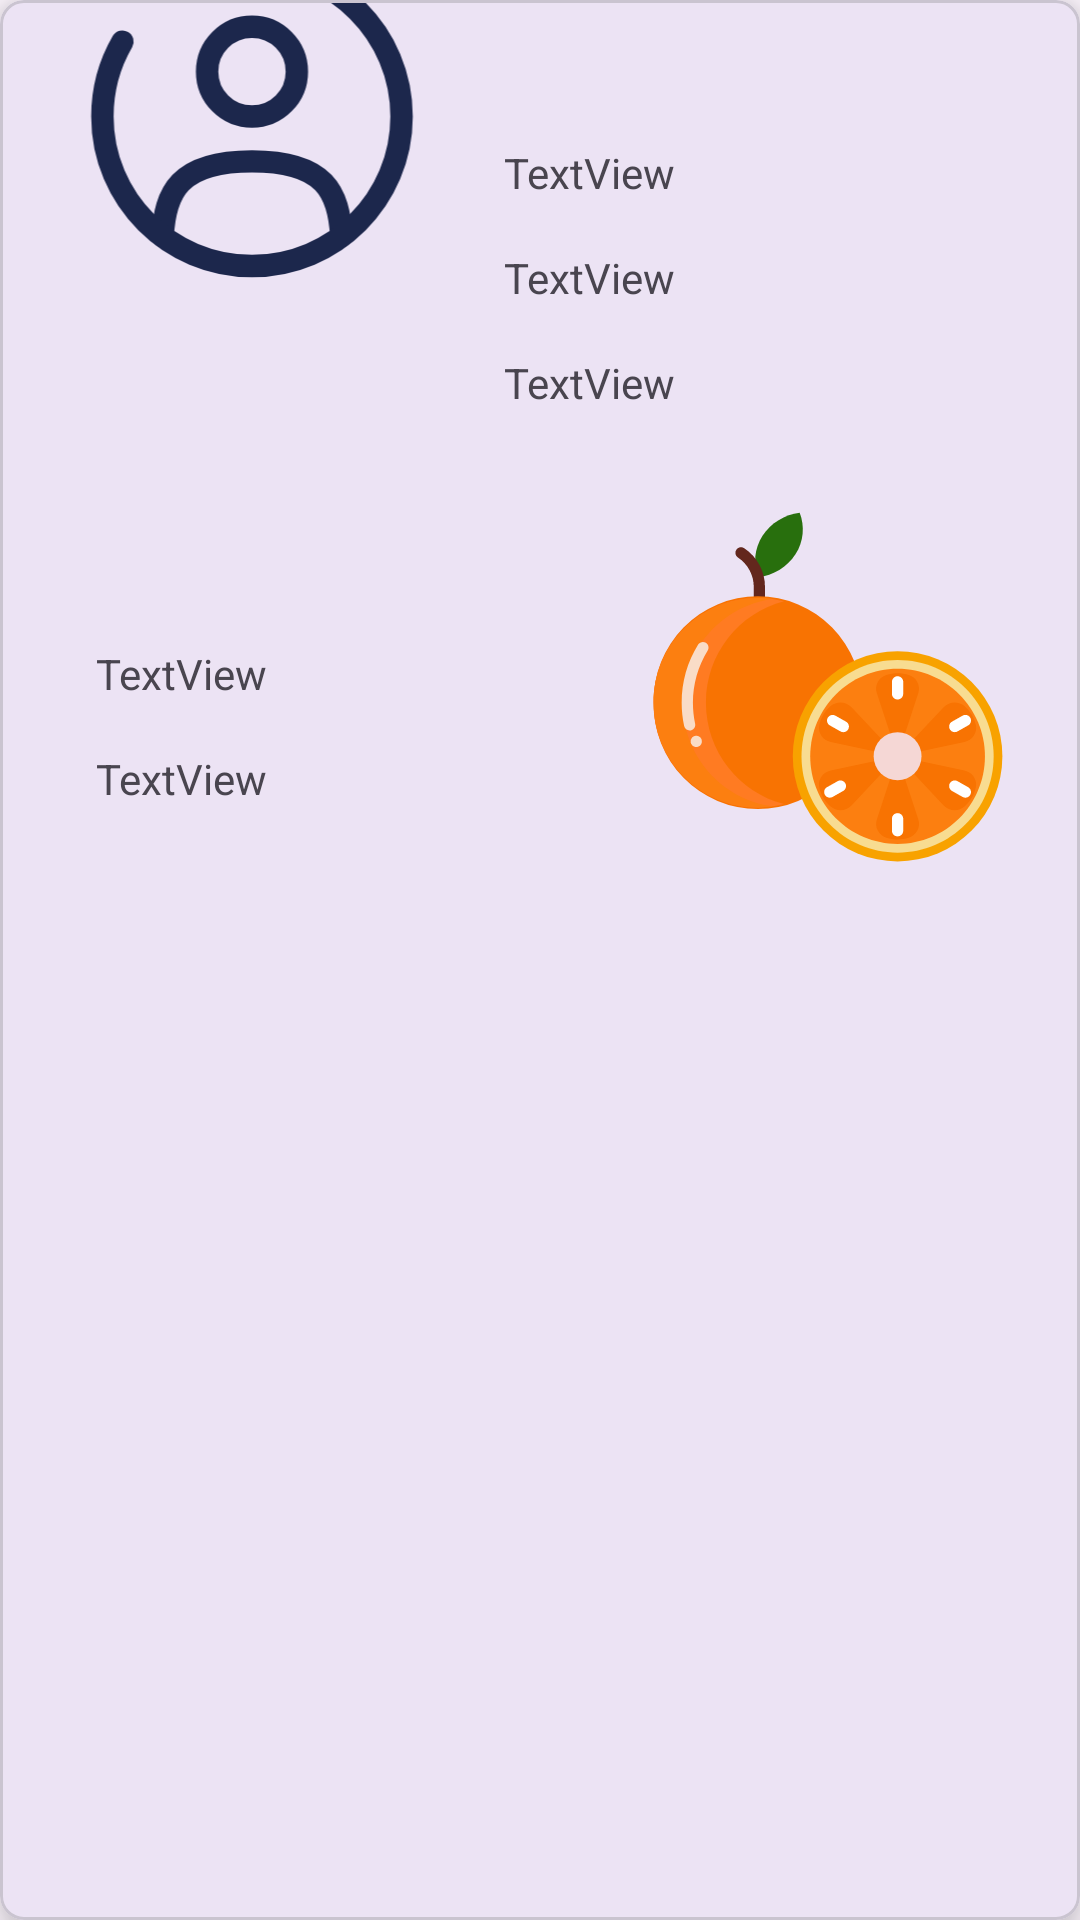

Named icons in this screenshot (1080×1920) and their bounding boxes, rect(x1, y1, x2, y2):
food: rect(653, 512, 1003, 862)
